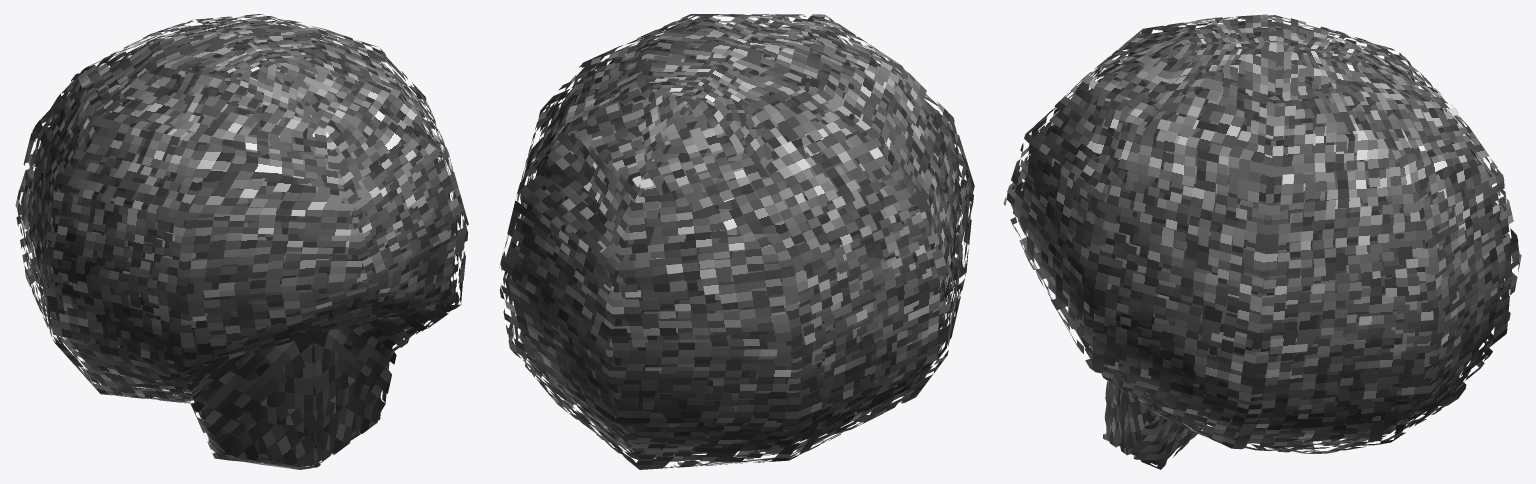
File: m_head018.glb
3 views of the same model, side by side, from view 1: azimuth 30°, elevation 25°; view 2: azimuth 150°, elevation 25°; view 3: azimuth 270°, elevation 25° (orthographic). The views are drawn at different scales.
Size of the model in its own units: 36.82 by 33.97 by 38.61.
1 material, 1 textured.
